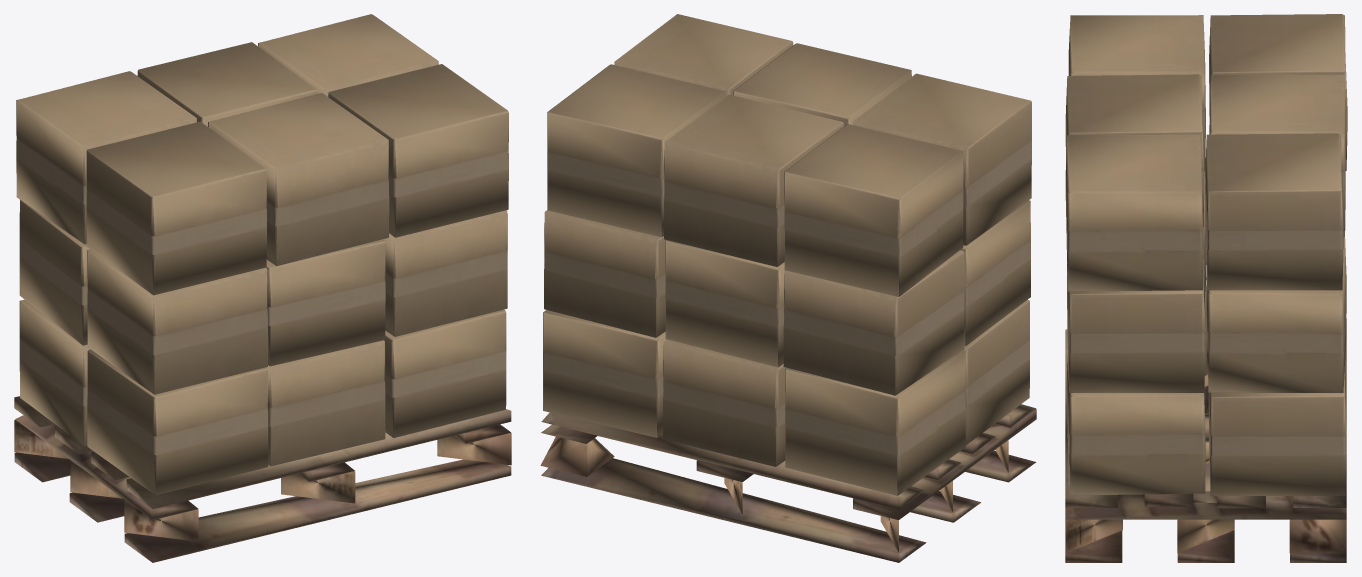
File: pallet_loaded-lo.glb
3 views of the same model, side by side, from view 1: azimuth 30°, elevation 25°; view 2: azimuth 150°, elevation 25°; view 3: azimuth 270°, elevation 25° (orthographic). The views are drawn at different scales.
Visible parts, largest first — view 1: body; view 2: body; view 3: body.
Boxes of the visible parts, x1=… form: body: x1=14, y1=14, x2=511, y2=562; body: x1=540, y1=14, x2=1036, y2=562; body: x1=1065, y1=14, x2=1347, y2=562.
Bounding box in the file's own units: 1.2 × 1.16 × 0.8008.
2 materials, 2 textured.
